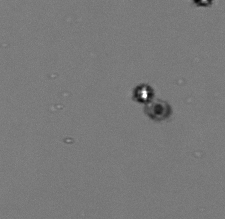Dead Cell: (146, 100, 169, 119)
Living Cell: (133, 84, 154, 104)
